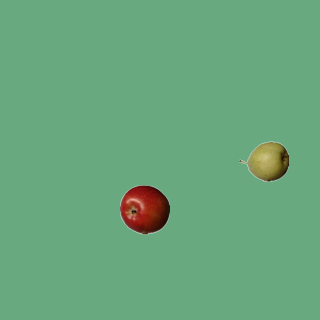Apple Braeburn: (119, 184, 169, 234)
Pear: (238, 136, 288, 186)
